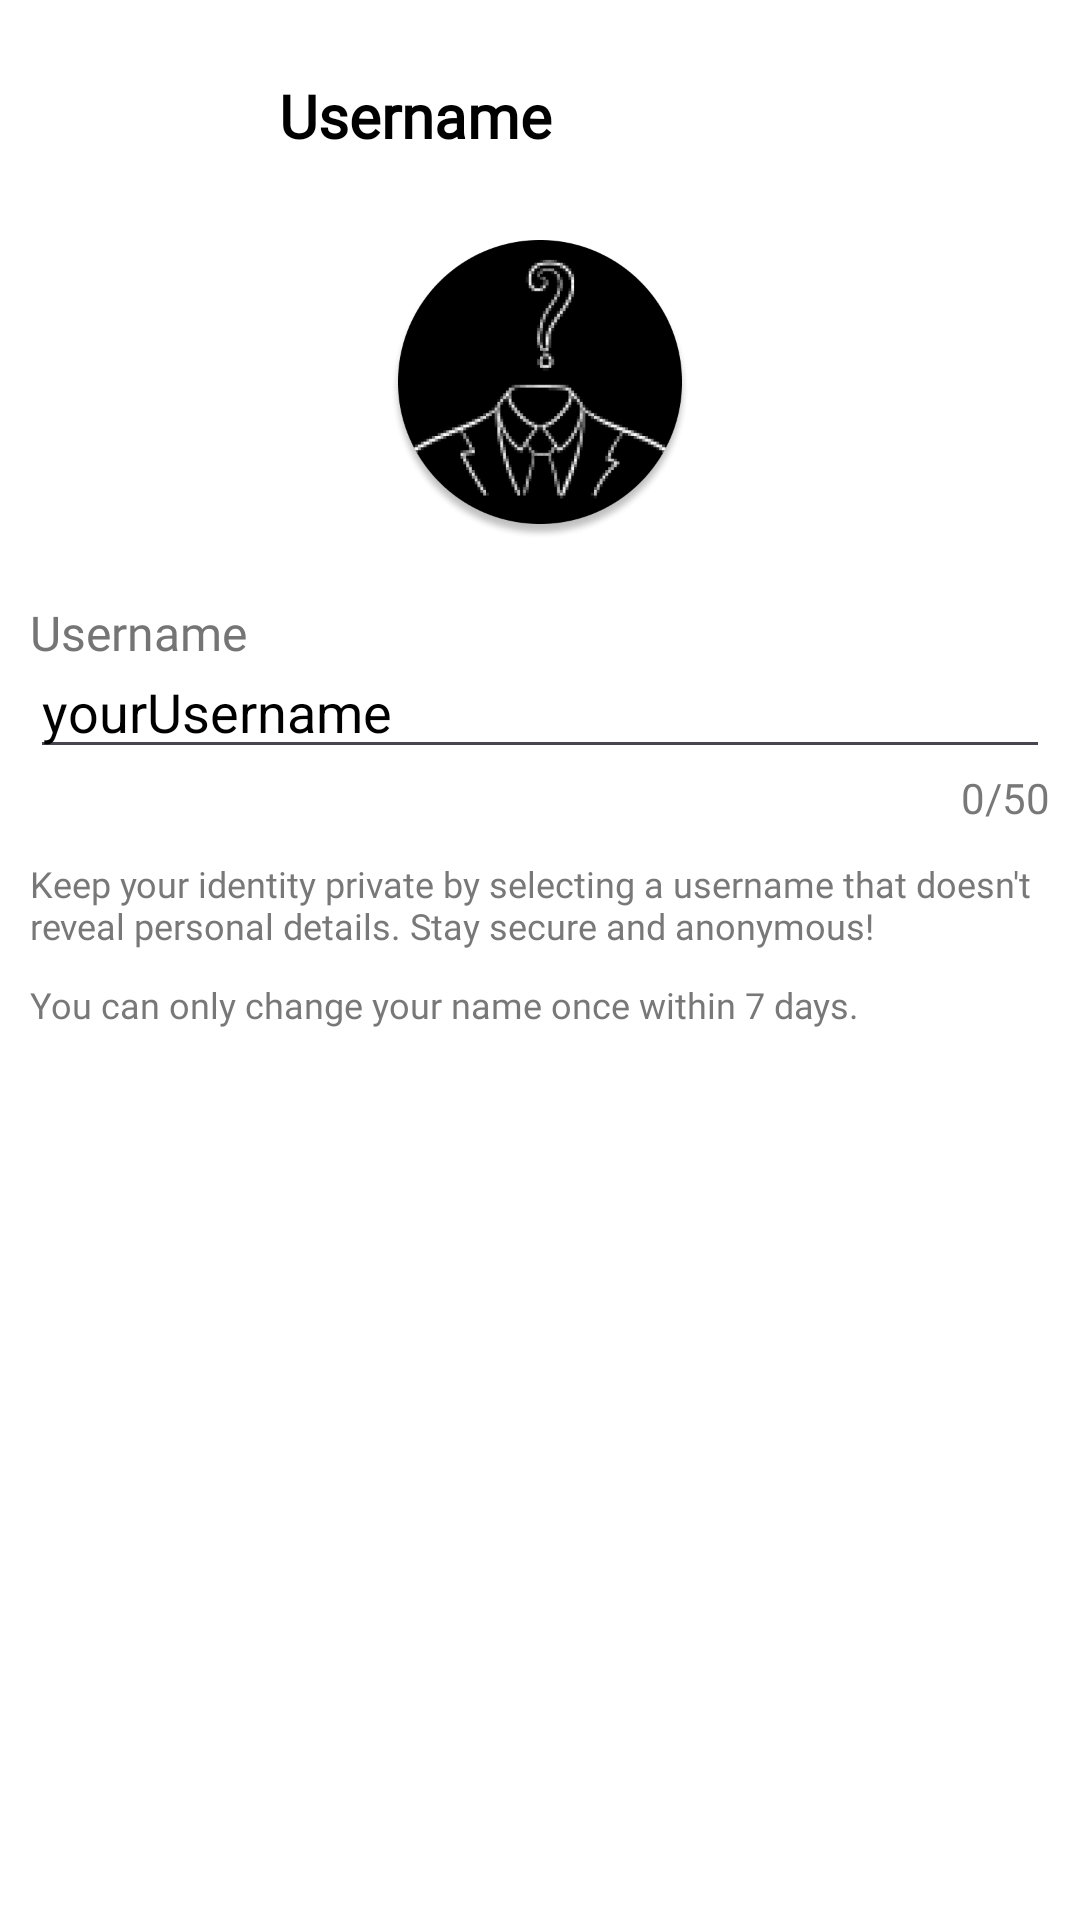

Icon click points for this 1080 x 1920 phone screenshot, format point (x, y):
profile: point (540, 386)
